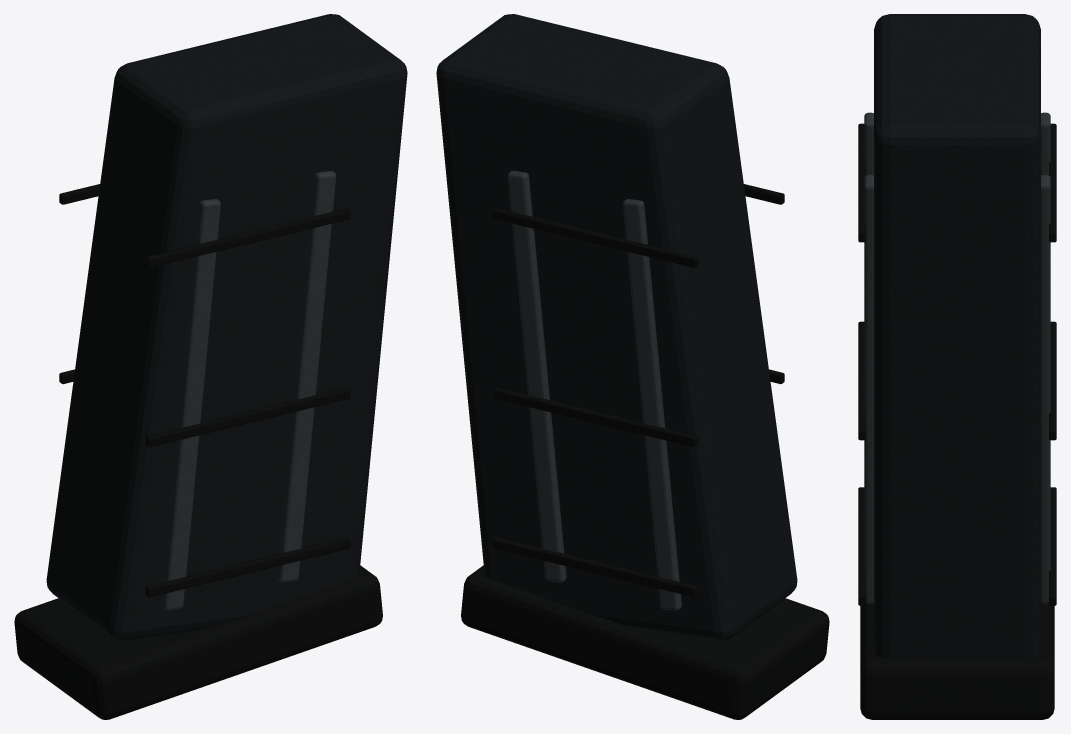
The model's file is kite01.magazine.glb.
3 renders of one model, left to right at view 1: azimuth 30°, elevation 25°; view 2: azimuth 150°, elevation 25°; view 3: azimuth 270°, elevation 25°, orthographic. The views are drawn at different scales.
Visible parts, largest first — view 1: VIS_kite01_magazine; view 2: VIS_kite01_magazine; view 3: VIS_kite01_magazine.
Part boxes in pixels (x1,y1,x2,y2): VIS_kite01_magazine: (14,14,407,719); VIS_kite01_magazine: (436,14,829,719); VIS_kite01_magazine: (858,14,1056,719).
Size of the model in its own units: 0.1029 by 0.1783 by 0.05.
Materials: 3 (3 with a texture image).
